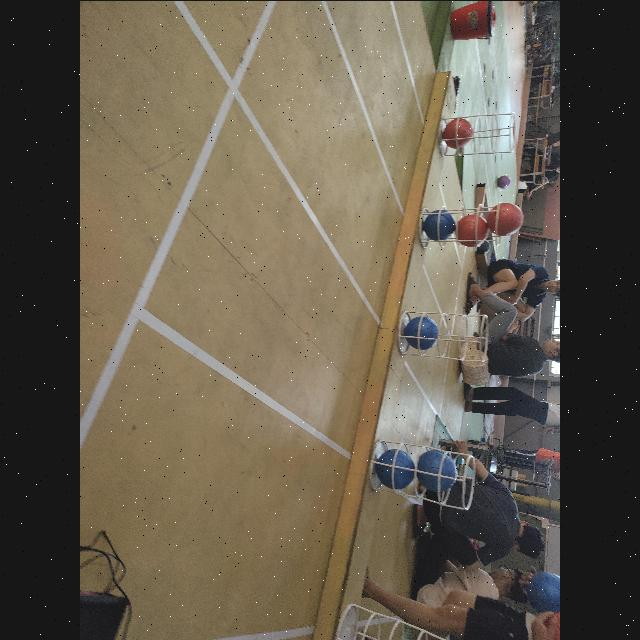B: (416, 449, 458, 491), (376, 449, 416, 489), (404, 316, 438, 348), (424, 210, 456, 240)
R: (488, 202, 524, 236), (458, 214, 488, 246), (443, 118, 473, 148)
